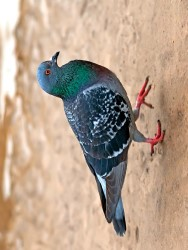pigeon: (34, 49, 166, 236)
